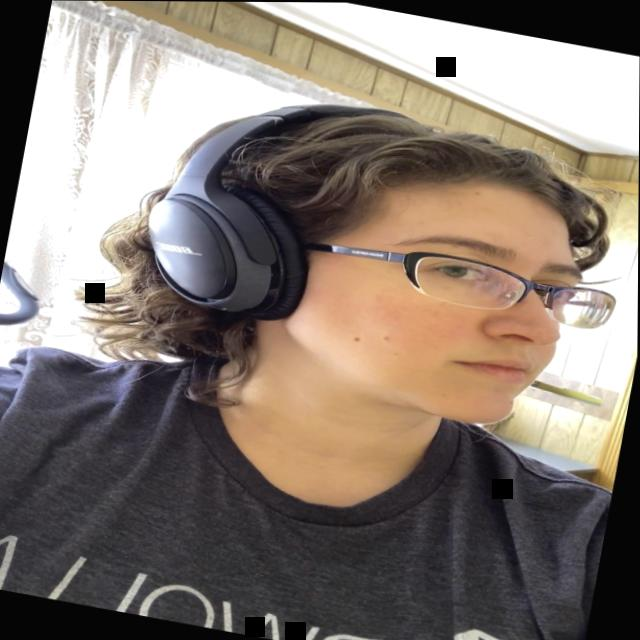NO-Mask: (264, 149, 596, 438)
